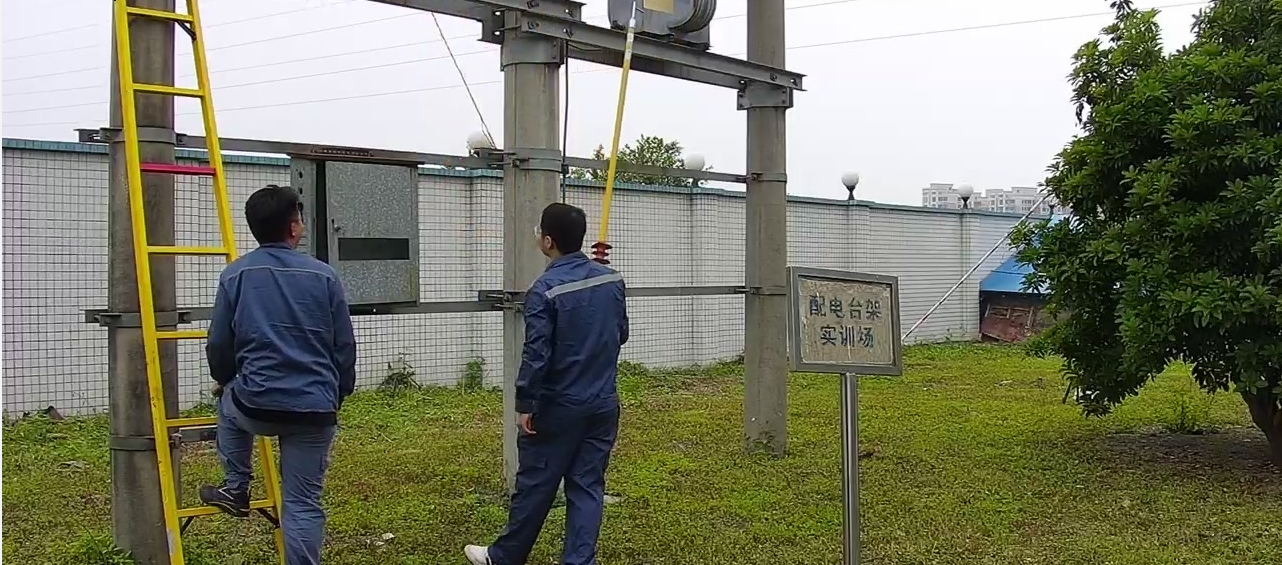安全帽、安全绳均未佩戴的工作人员: (196, 182, 359, 565)
未带安全帽的工作人员: (462, 200, 630, 564)
